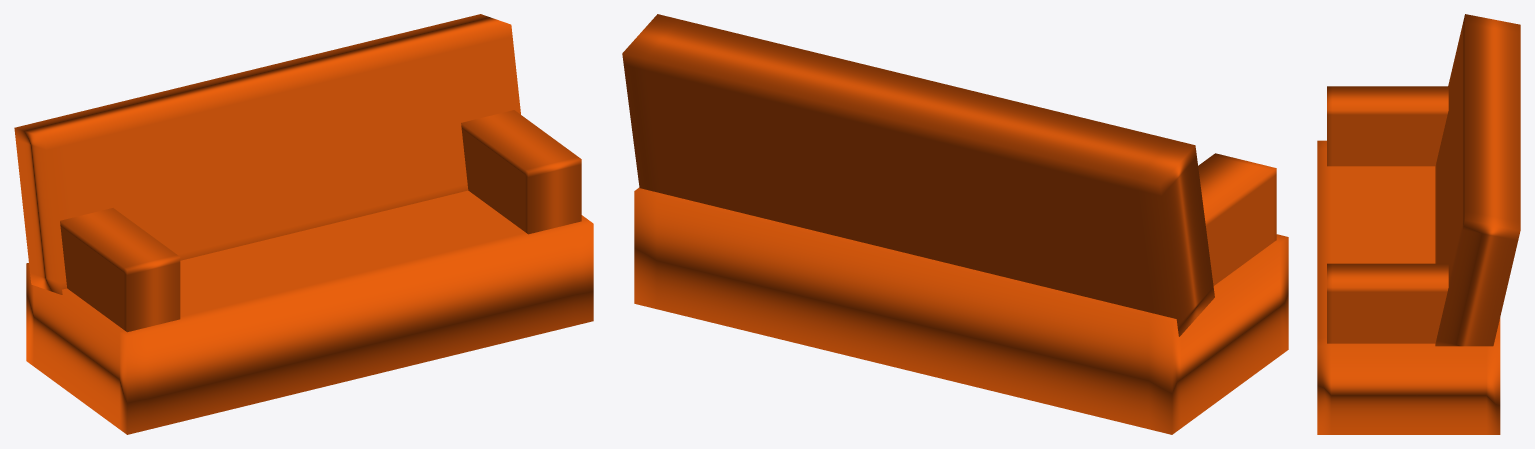
File: OrangeCouch.glb
3 views of the same model, side by side, from view 1: azimuth 30°, elevation 25°; view 2: azimuth 150°, elevation 25°; view 3: azimuth 270°, elevation 25° (orthographic). The views are drawn at different scales.
Visible parts, largest first — view 1: Cube, Cube.001, Cube.003, Cube.002; view 2: Cube.001, Cube, Cube.003; view 3: Cube, Cube.001, Cube.002, Cube.003.
Boxes of the visible parts, box(x1,y1,x2,y2) form: Cube: box(26, 190, 593, 434); Cube.001: box(14, 14, 520, 294); Cube.003: box(60, 208, 180, 332); Cube.002: box(461, 110, 581, 234); Cube.001: box(622, 14, 1214, 336); Cube: box(634, 188, 1288, 434); Cube.003: box(1198, 153, 1276, 285); Cube: box(1317, 140, 1500, 434); Cube.001: box(1435, 14, 1520, 346); Cube.002: box(1327, 263, 1448, 343); Cube.003: box(1327, 86, 1448, 166).
Bounding box in the file's own units: 10.01 × 4.86 × 4.17.
